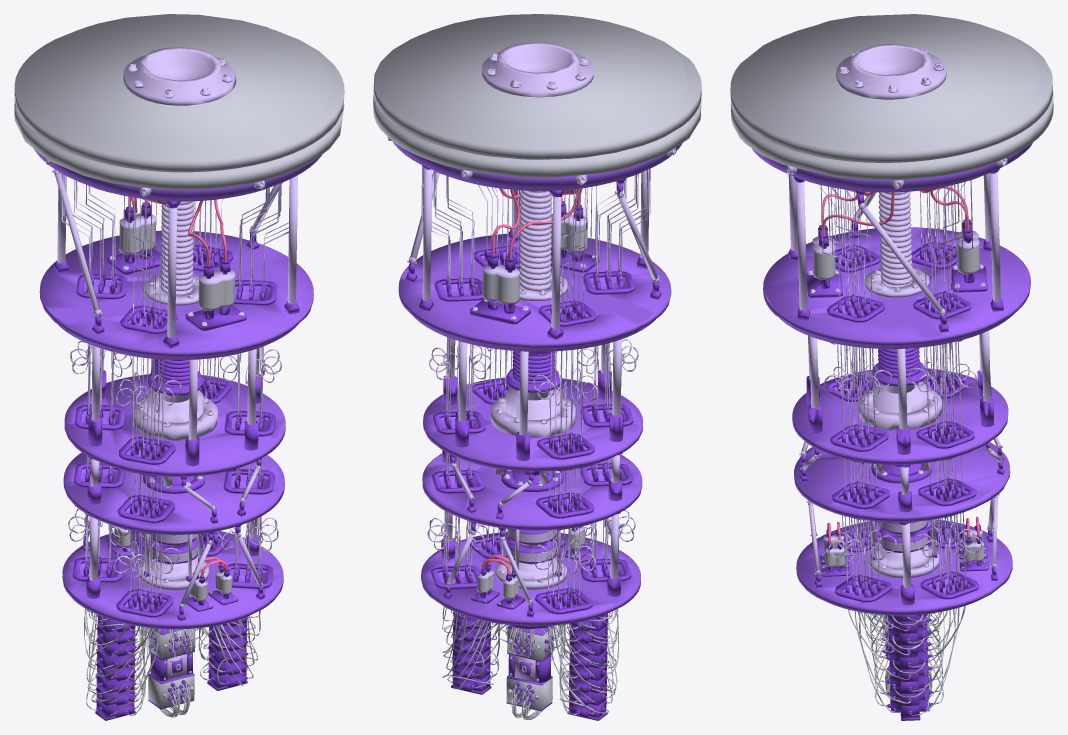
File: quantum-computer.glb
3 renders of one model, left to right at view 1: azimuth 30°, elevation 25°; view 2: azimuth 150°, elevation 25°; view 3: azimuth 270°, elevation 25°, orthographic. The views are drawn at different scales.
Parts seen in each view (by area): view 1: quantum_computer_wires_05_quantum_computer_plastic_white_mat, quantum_computer_stern_quantum_computer_chrome_1_mat_0_0, quantum_computer_stern_quantum_computer_copper_1_mat_0_0, quantum_computer_disk_03_quantum_computer_copper_3_3_mat_0_0, quantum_computer_disk_03_quantum_computer_copper_3_2_mat_0_0, quantum_computer_disk_03_quantum_computer_copper_3_4_mat_0_0, quantum_computer_transistor_02_quantum_computer_copper_2_mat, quantum_computer_motherboard_quantum_computer_aluminium_mat_, quantum_computer_transistor_02_quantum_computer_wire_1_mat_0; view 2: quantum_computer_wires_05_quantum_computer_plastic_white_mat, quantum_computer_stern_quantum_computer_chrome_1_mat_0_0, quantum_computer_stern_quantum_computer_copper_1_mat_0_0, quantum_computer_disk_03_quantum_computer_copper_3_3_mat_0_0, quantum_computer_disk_03_quantum_computer_copper_3_2_mat_0_0, quantum_computer_disk_03_quantum_computer_copper_3_4_mat_0_0, quantum_computer_transistor_02_quantum_computer_copper_2_mat, quantum_computer_motherboard_quantum_computer_aluminium_mat_, quantum_computer_transistor_02_quantum_computer_wire_1_mat_0; view 3: quantum_computer_wires_05_quantum_computer_plastic_white_mat, quantum_computer_stern_quantum_computer_chrome_1_mat_0_0, quantum_computer_stern_quantum_computer_copper_1_mat_0_0, quantum_computer_disk_03_quantum_computer_copper_3_3_mat_0_0, quantum_computer_disk_03_quantum_computer_copper_3_2_mat_0_0, quantum_computer_disk_03_quantum_computer_copper_3_4_mat_0_0, quantum_computer_transistor_02_quantum_computer_copper_2_mat, quantum_computer_transistor_02_quantum_computer_wire_1_mat_0.
Boxes of the visible parts, x1=… form: quantum_computer_wires_05_quantum_computer_plastic_white_mat: x1=14, y1=14, x2=344, y2=717; quantum_computer_stern_quantum_computer_chrome_1_mat_0_0: x1=44, y1=47, x2=297, y2=697; quantum_computer_stern_quantum_computer_copper_1_mat_0_0: x1=53, y1=201, x2=299, y2=715; quantum_computer_disk_03_quantum_computer_copper_3_3_mat_0_0: x1=62, y1=374, x2=285, y2=625; quantum_computer_disk_03_quantum_computer_copper_3_2_mat_0_0: x1=40, y1=230, x2=313, y2=351; quantum_computer_disk_03_quantum_computer_copper_3_4_mat_0_0: x1=34, y1=149, x2=322, y2=629; quantum_computer_transistor_02_quantum_computer_copper_2_mat: x1=95, y1=202, x2=247, y2=720; quantum_computer_motherboard_quantum_computer_aluminium_mat_: x1=148, y1=628, x2=195, y2=707; quantum_computer_transistor_02_quantum_computer_wire_1_mat_0: x1=128, y1=196, x2=227, y2=576; quantum_computer_wires_05_quantum_computer_plastic_white_mat: x1=373, y1=14, x2=701, y2=720; quantum_computer_stern_quantum_computer_chrome_1_mat_0_0: x1=387, y1=42, x2=675, y2=699; quantum_computer_stern_quantum_computer_copper_1_mat_0_0: x1=406, y1=165, x2=661, y2=715; quantum_computer_disk_03_quantum_computer_copper_3_3_mat_0_0: x1=421, y1=377, x2=643, y2=624; quantum_computer_disk_03_quantum_computer_copper_3_2_mat_0_0: x1=398, y1=233, x2=671, y2=342; quantum_computer_disk_03_quantum_computer_copper_3_4_mat_0_0: x1=393, y1=142, x2=682, y2=625; quantum_computer_transistor_02_quantum_computer_copper_2_mat: x1=451, y1=201, x2=607, y2=720; quantum_computer_motherboard_quantum_computer_aluminium_mat_: x1=506, y1=628, x2=553, y2=709; quantum_computer_transistor_02_quantum_computer_wire_1_mat_0: x1=482, y1=188, x2=582, y2=574; quantum_computer_wires_05_quantum_computer_plastic_white_mat: x1=730, y1=14, x2=1053, y2=715; quantum_computer_stern_quantum_computer_chrome_1_mat_0_0: x1=785, y1=44, x2=1007, y2=588; quantum_computer_stern_quantum_computer_copper_1_mat_0_0: x1=788, y1=168, x2=1004, y2=713; quantum_computer_disk_03_quantum_computer_copper_3_3_mat_0_0: x1=792, y1=368, x2=1012, y2=615; quantum_computer_disk_03_quantum_computer_copper_3_2_mat_0_0: x1=763, y1=227, x2=1030, y2=340; quantum_computer_disk_03_quantum_computer_copper_3_4_mat_0_0: x1=752, y1=143, x2=1032, y2=615; quantum_computer_transistor_02_quantum_computer_copper_2_mat: x1=818, y1=219, x2=981, y2=720; quantum_computer_transistor_02_quantum_computer_wire_1_mat_0: x1=821, y1=186, x2=980, y2=542.
Size of the model in its own units: 110 by 241 by 110.
Materials: 10 (10 with a texture image).
